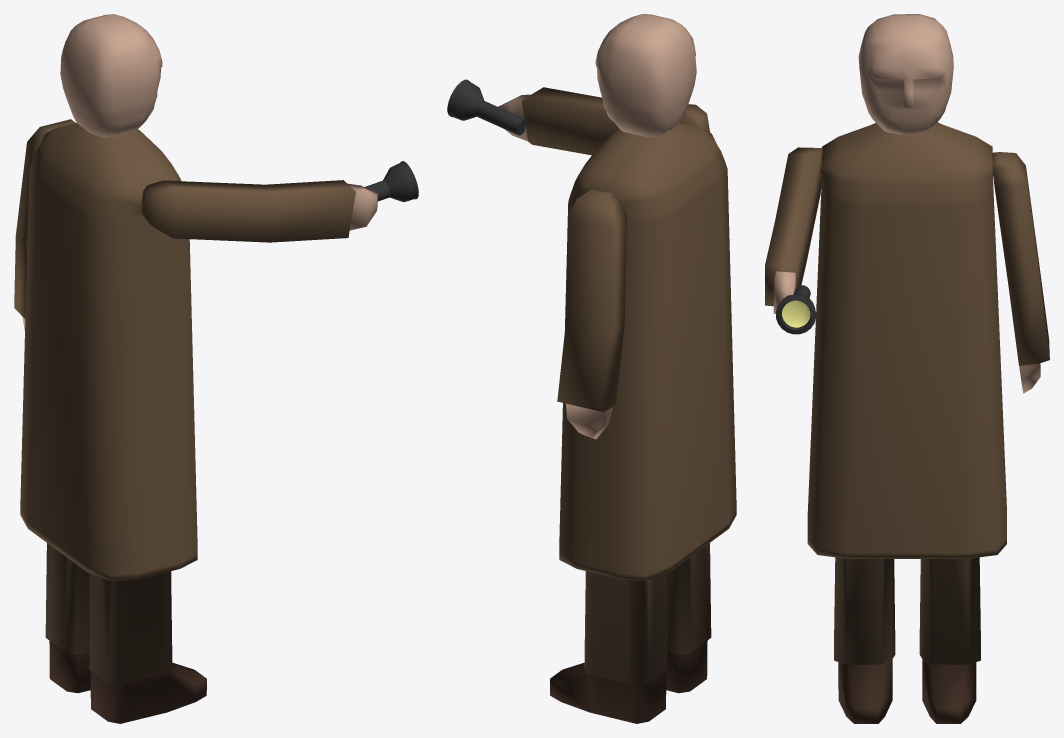
File: Player.fbx
The picture shows the model from 3 angles, left to right: view 1: azimuth 30°, elevation 25°; view 2: azimuth 150°, elevation 25°; view 3: azimuth 270°, elevation 25°; orthographic projection.
Parts seen in each view (by area): view 1: bodyMain, armRight, head, armLeft, Flashlight; view 2: bodyMain, armLeft, head, armRight, Flashlight; view 3: bodyMain, head, armLeft, armRight, Flashlight.
Part boxes in pixels (x1,y1,x2,y2): bodyMain: (20, 123, 206, 723); armRight: (140, 180, 377, 242); head: (60, 14, 162, 137); armLeft: (14, 119, 75, 330); Flashlight: (365, 161, 418, 202); bodyMain: (550, 122, 736, 723); armLeft: (557, 188, 626, 439); head: (595, 14, 696, 136); armRight: (498, 87, 709, 155); Flashlight: (447, 79, 525, 135); bodyMain: (807, 122, 1006, 723); head: (858, 14, 953, 134); armLeft: (992, 152, 1049, 393); armRight: (765, 147, 822, 313); Flashlight: (776, 285, 815, 334).
Bounding box in the file's own units: 80.73 × 172 × 66.41.
